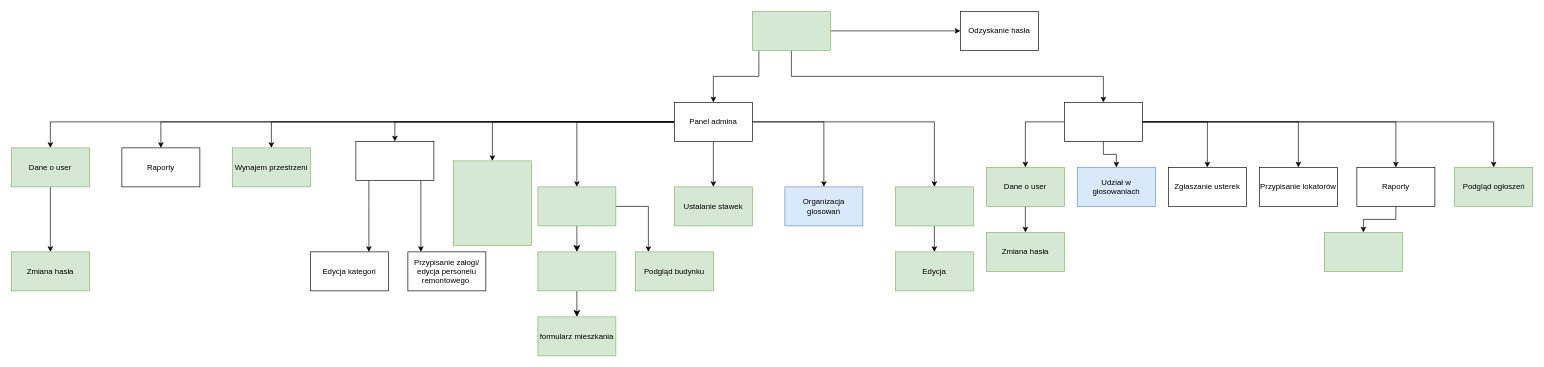
Some shapes in this 1544 by 367 pixel diagram are drawn without their labels. Here are the shapes that lost their labels. From the top down, the centre of each, then its label:
At point (791, 30): "Logowanie dodac sesje".
At point (1103, 121): "Panel usera".
At point (394, 160): "Zarządzanie usterkami".
At point (492, 202): "Tworzenie nowego usera formularz: fulname phone addres email haslo".
At point (576, 206): "Kreator budynku/edycja".
At point (934, 206): "Tworzenie ogłoszeń".
At point (576, 271): "formularz budynku".
At point (1363, 251): "Informacje o stawkach".
